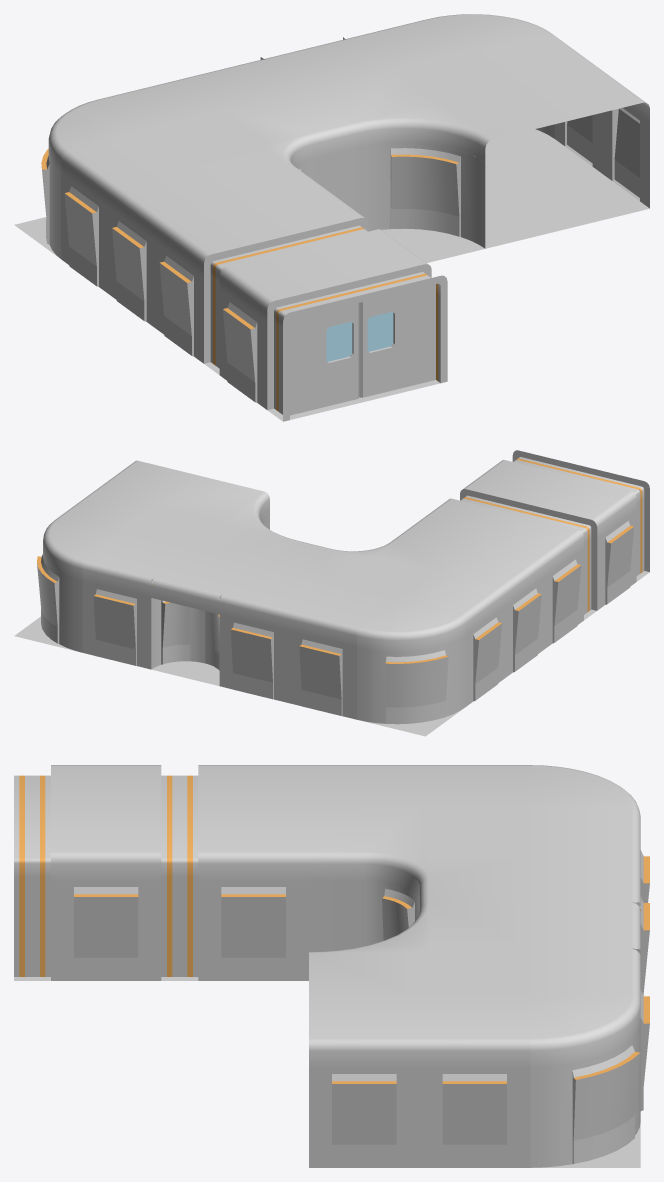
Rendered from LevelMap_01.fbx.
3 views of the same model, one above another, from view 1: azimuth 30°, elevation 25°; view 2: azimuth 150°, elevation 25°; view 3: azimuth 270°, elevation 25° (orthographic). The views are drawn at different scales.
Visible parts, largest first — view 1: map__Level_Roof_Angle_Large_01_500, map__Level_Roof_Angle_Smal_01_502, map__Level_Wall_Arc_90_01_510, map__Level_Door_Left_01_220, map__Level_Door_Left_01_222, map__Level_Roof_01_452, map__Level_Roof_01_436, map__Level_Roof_01_432, map__Level_Roof_01_438, map__Level_Wall_Simple_01_548, map__Level_Wall_Simple_01_534, map__Level_Wall_Simple_01_540 (+26 smaller); view 2: map__Level_Roof_Angle_Large_01_500, map__Level_Roof_Angle_Smal_01_502, map__Level_Wall_Arc_90_02_512, map__Level_Wall_Simple_01_556, map__Level_Wall_Simple_01_538, map__Level_Wall_Simple_01_544, map__Level_Roof_Angle_01_484, map__Level_Roof_01_456, map__Level_Roof_01_440, map__Level_Roof_01_442, map__Level_Roof_01_454, map__Level_Roof_01_436 (+22 smaller); view 3: map__Level_Roof_Angle_Smal_01_502, map__Level_Roof_Angle_Large_01_500, map__Level_Wall_Simple_01_550, map__Level_Wall_Arc_90_02_514, map__Level_Wall_Simple_01_536, map__Level_Wall_Simple_01_552, map__Level_Wall_Simple_01_546, map__Level_Roof_01_458, map__Level_Roof_01_434, map__Level_Roof_01_444, map__Level_Roof_01_460, map__Level_Roof_Angle_01_486 (+17 smaller).
Boxes of the visible parts, box(x1,y1,x2,y2) form: map__Level_Roof_Angle_Large_01_500: box(308, 51, 567, 162); map__Level_Roof_Angle_Smal_01_502: box(144, 92, 355, 201); map__Level_Wall_Arc_90_01_510: box(355, 142, 485, 248); map__Level_Door_Left_01_220: box(359, 275, 435, 397); map__Level_Door_Left_01_222: box(278, 303, 359, 415); map__Level_Roof_01_452: box(219, 248, 348, 323); map__Level_Roof_01_436: box(109, 167, 238, 242); map__Level_Roof_01_432: box(156, 201, 285, 277); map__Level_Roof_01_438: box(61, 132, 190, 207); map__Level_Wall_Simple_01_548: box(219, 289, 267, 409); map__Level_Wall_Simple_01_534: box(109, 208, 156, 328); map__Level_Wall_Simple_01_540: box(156, 243, 203, 363); map__Level_Roof_Angle_Large_01_500: box(122, 476, 296, 567); map__Level_Roof_Angle_Smal_01_502: box(260, 527, 475, 600); map__Level_Wall_Arc_90_02_512: box(357, 636, 465, 724); map__Level_Wall_Simple_01_556: box(82, 581, 151, 669); map__Level_Wall_Simple_01_538: box(219, 614, 288, 702); map__Level_Wall_Simple_01_544: box(288, 631, 356, 719); map__Level_Roof_Angle_01_484: box(357, 601, 465, 652); map__Level_Roof_01_456: box(82, 534, 190, 597); map__Level_Roof_01_440: box(219, 567, 327, 630); map__Level_Roof_01_442: box(288, 584, 395, 647); map__Level_Roof_01_454: box(151, 551, 258, 614); map__Level_Roof_01_436: box(436, 543, 544, 606); map__Level_Roof_Angle_Smal_01_502: box(309, 809, 530, 909); map__Level_Roof_Angle_Large_01_500: box(309, 902, 530, 995); map__Level_Wall_Simple_01_550: box(419, 1067, 530, 1167); map__Level_Wall_Arc_90_02_514: box(530, 1023, 640, 1167); map__Level_Wall_Simple_01_536: box(198, 880, 308, 980); map__Level_Wall_Simple_01_552: box(309, 1067, 419, 1167); map__Level_Wall_Simple_01_546: box(51, 880, 161, 980); map__Level_Roof_01_458: box(419, 996, 530, 1067); map__Level_Roof_01_434: box(198, 809, 308, 880); map__Level_Roof_01_444: box(51, 809, 161, 880); map__Level_Roof_01_460: box(309, 996, 419, 1067); map__Level_Roof_Angle_01_486: box(530, 996, 640, 1067).
Bounding box in the file's own units: 1850 × 1725 × 375.
